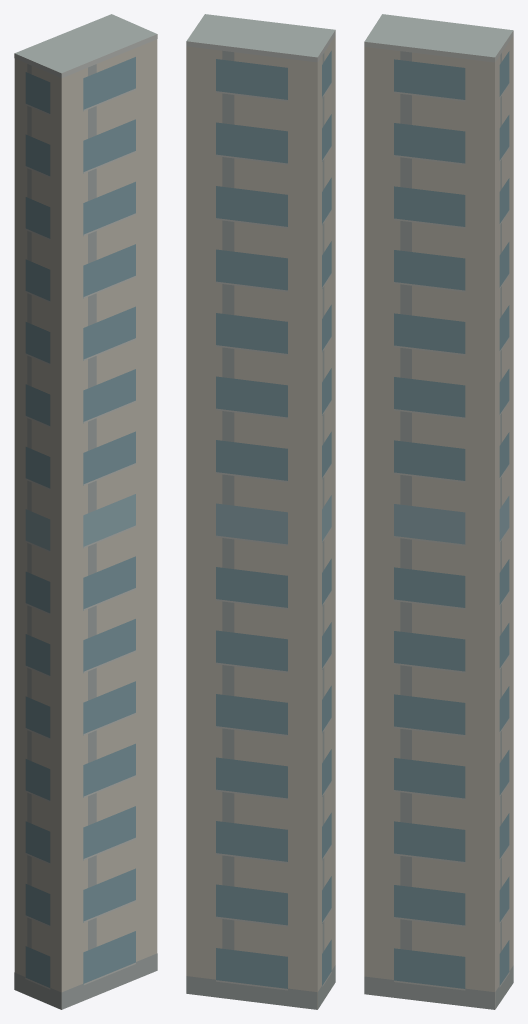
File: survey-upis-32994666.glb
The picture shows the model from 3 angles, left to right: view 1: azimuth 30°, elevation 25°; view 2: azimuth 150°, elevation 25°; view 3: azimuth 330°, elevation 25°; orthographic projection.
Parts seen in each view (by area): view 1: survey-upis-32994666.tmp; view 2: survey-upis-32994666.tmp; view 3: survey-upis-32994666.tmp.
Boxes of the visible parts, <box> form: survey-upis-32994666.tmp: <box>14,14,157,1009</box>; survey-upis-32994666.tmp: <box>186,14,335,1009</box>; survey-upis-32994666.tmp: <box>364,14,513,1009</box>.
Bounding box in the file's own units: 6.5 × 45.75 × 4.28.
